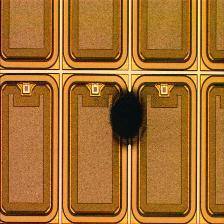PARTICLE: (100, 87, 160, 147)
